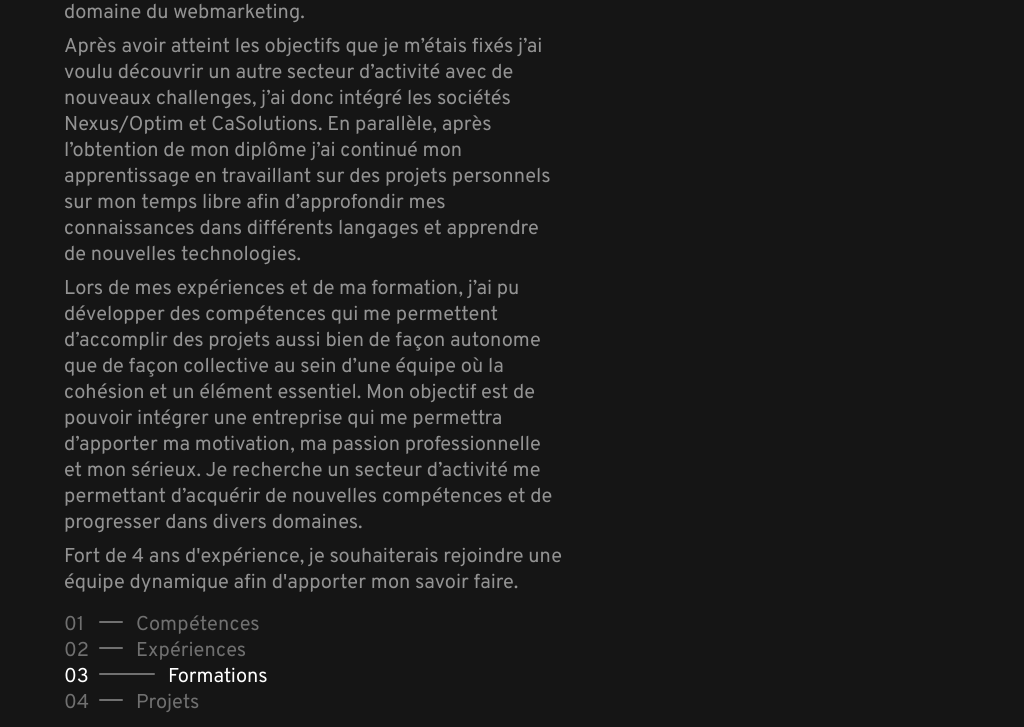
Scenario: should go to page Projects
This screenshot has width=1024, height=727.
(page scrolled)
Step 1. Click the text "Projets" → (168, 703), box [136,690,200,716]
(page scrolled)
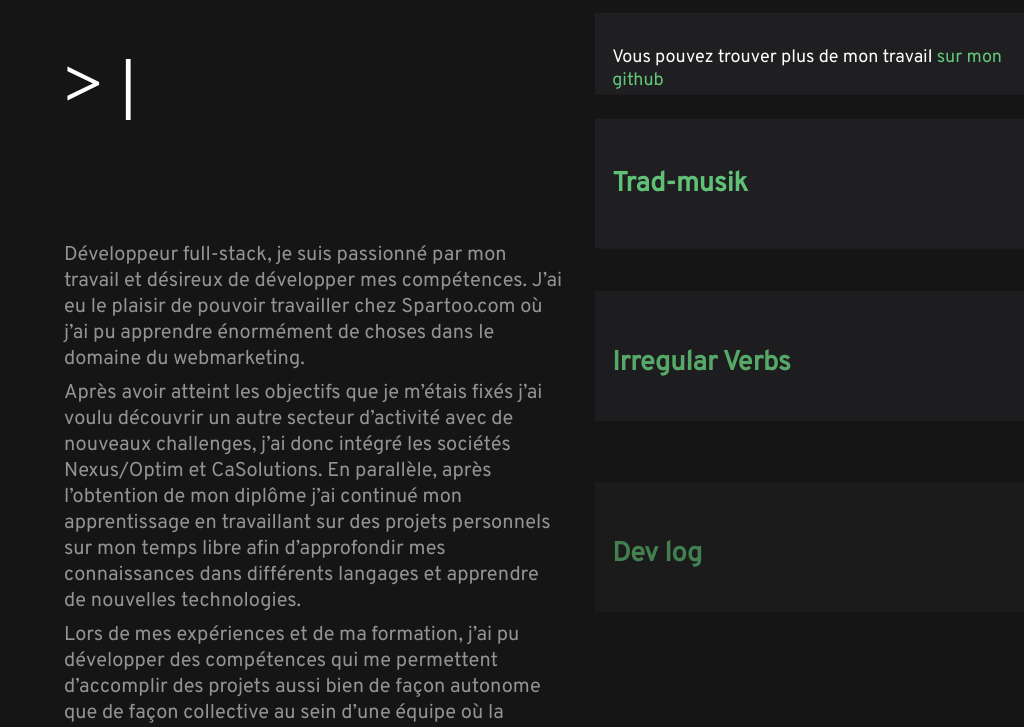
Expected: the heading "Trad-musik" is shown, [612,167,748,201]
